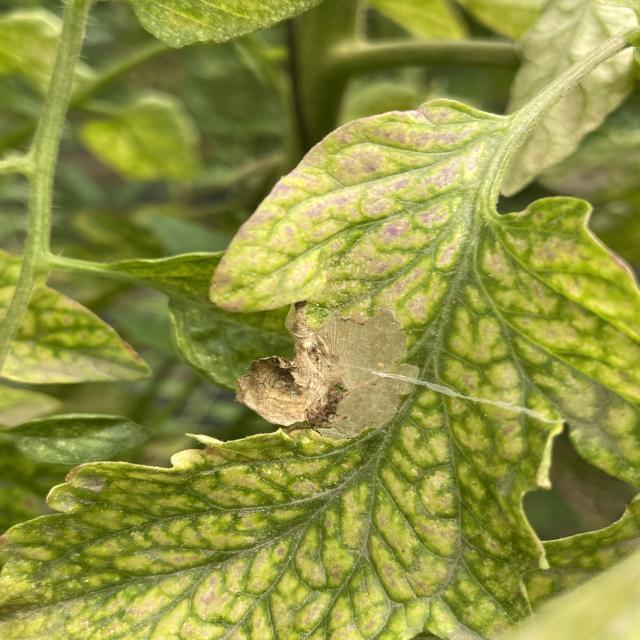Tuta absoluta: (229, 263, 440, 478)
